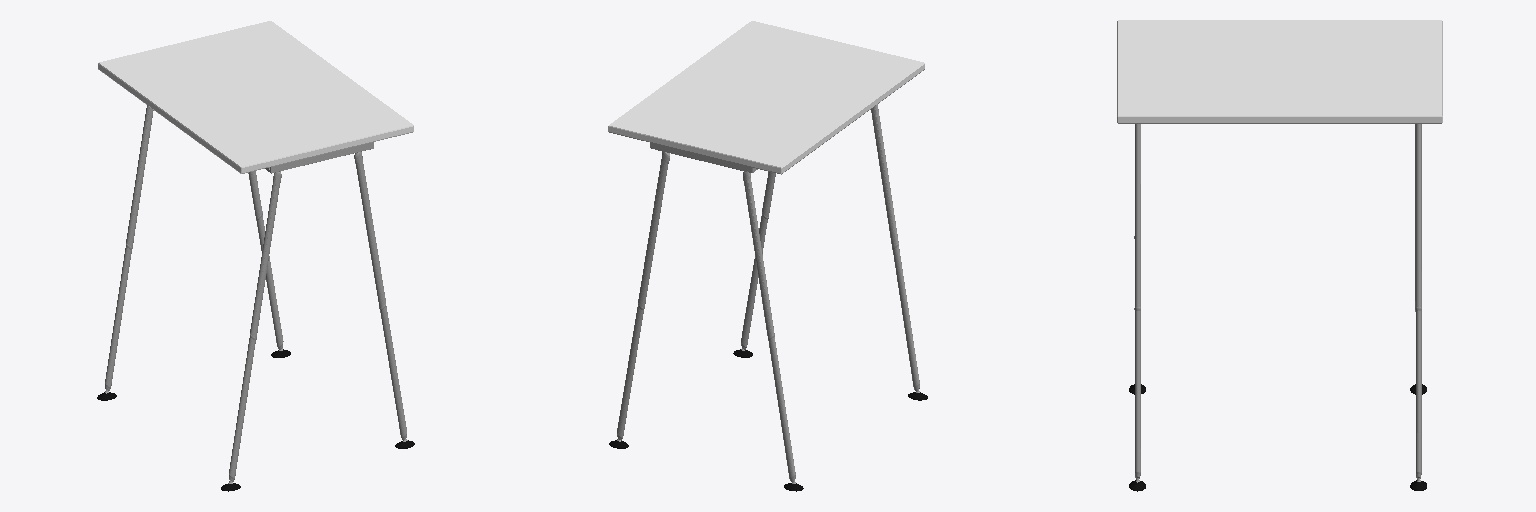
URDF robot description (table):
<?xml version="0.0" ?>
<robot name="table">
    <!--https://free3d.com/3d-model/ikea-desk-thyge-85093.html-->
    <material name="white">
        <color rgba="0.95 0.95 0.95 1"/>
    </material>
    <material name="black">
        <color rgba="0.10 0.10 0.10 1"/>
    </material>
    <material name="grey">
        <color rgba="0.70 0.70 0.70 1"/>
    </material>

    <link name="baseLink">
        <contact>
            <lateral_friction value="1.0"/>
        </contact>
        <inertial>
            <origin rpy="0 0 0" xyz="0 0 0"/>
            <mass value=".0"/>
            <inertia ixx="0" ixy="0" ixz="0" iyy="0" iyz="0" izz="0"/>
        </inertial>
        <visual>
            <origin rpy="0 0 0" xyz="0 0 0"/>
            <geometry>
                <mesh filename="meshes/part0.obj" scale="1 1 1"/>
            </geometry>
            <material name="white"/>
        </visual>
        <collision>
            <origin rpy="0 0 0" xyz="0 0 0.65"/>
            <geometry>
                <box size="0.416 0.538 0.05"/>
            </geometry>
        </collision>
    </link>

    <link name="bodyLink">
        <inertial>
            <origin rpy="0 0 0" xyz="0 0 0"/>
            <mass value=".0"/>
            <inertia ixx="0" ixy="0" ixz="0" iyy="0" iyz="0" izz="0"/>
        </inertial>
        <visual>
            <origin rpy="0 0 0" xyz="0 0 0"/>
            <geometry>
                <mesh filename="meshes/part1.obj" scale="1 1 1"/>
            </geometry>
            <material name="grey"/>
        </visual>
    </link>

    <joint name="joint_1" type="fixed">
        <parent link="baseLink"/>
        <child link="bodyLink"/>
        <origin rpy="0 0 0" xyz="0 0 0"/>
    </joint>

    <link name="bottomLink">
        <inertial>
            <origin rpy="0 0 0" xyz="0 0 0"/>
            <mass value=".0"/>
            <inertia ixx="0" ixy="0" ixz="0" iyy="0" iyz="0" izz="0"/>
        </inertial>
        <visual>
            <origin rpy="0 0 0" xyz="0 0 0"/>
            <geometry>
                <mesh filename="meshes/part2.obj" scale="1 1 1"/>
            </geometry>
            <material name="black"/>
        </visual>
    </link>

    <joint name="joint_2" type="fixed">
        <parent link="baseLink"/>
        <child link="bottomLink"/>
        <origin rpy="0 0 0" xyz="0 0 0"/>
    </joint>
</robot>

--- Facts derived from the render (not from the file) ---
The picture shows the robot from 3 angles, left to right: view 1: azimuth 30°, elevation 25°; view 2: azimuth 150°, elevation 25°; view 3: azimuth 270°, elevation 25°; orthographic projection.
Robot: table — 3 links, 2 joints (2 fixed); root link baseLink; default pose: all joints at 0.
Visible links, largest first — view 1: baseLink, bodyLink; view 2: baseLink, bodyLink; view 3: baseLink, bodyLink.
Link boxes in pixels (left/top/right/bottom): baseLink: left=98, top=21, right=413, bottom=173; bodyLink: left=105, top=105, right=407, bottom=483; baseLink: left=608, top=21, right=924, bottom=174; bodyLink: left=617, top=104, right=919, bottom=483; baseLink: left=1117, top=20, right=1442, bottom=123; bodyLink: left=1134, top=124, right=1421, bottom=482.
Bounding box of the posed robot: 0.416 × 0.537 × 0.675 m (x, y, z).
Meshes: 3 distinct files referenced, 3 mesh visuals loaded (3 OBJ).
